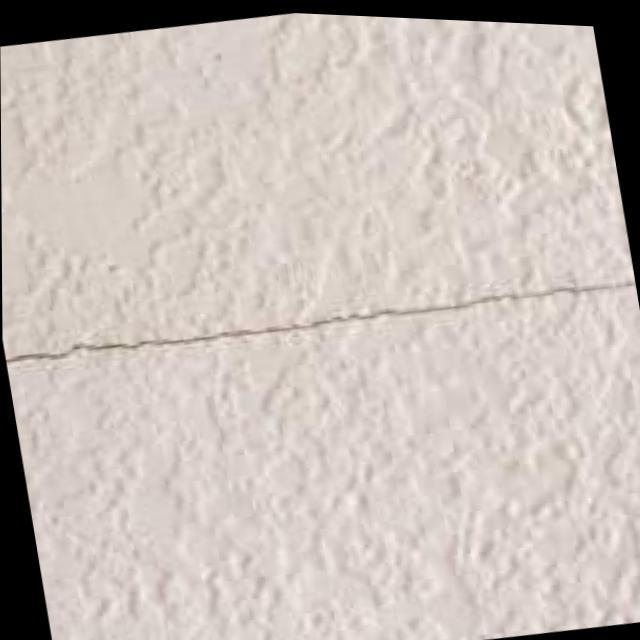Crack: (18, 280, 628, 362)
